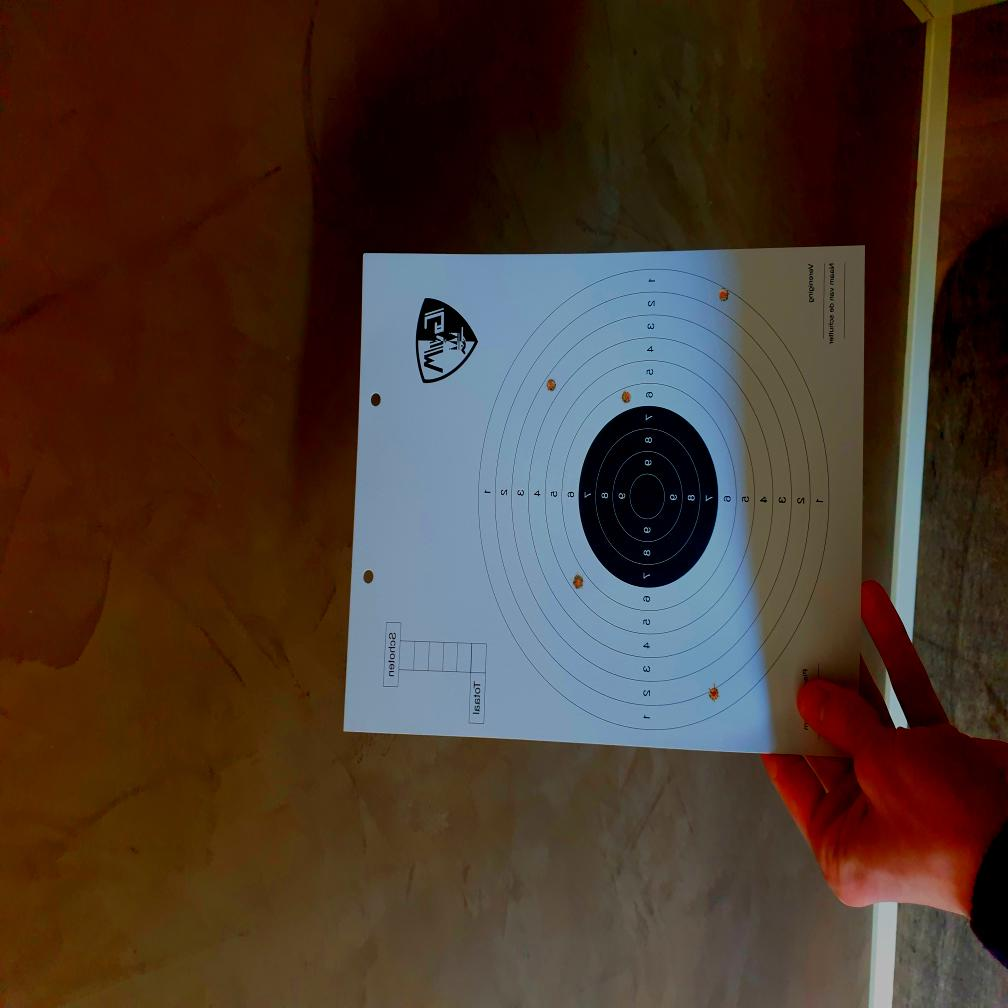1: (717, 286, 729, 303)
2: (708, 683, 720, 702)
3: (545, 379, 556, 392)
5: (570, 572, 584, 589)
6: (620, 389, 631, 404)
Target: (478, 268, 831, 734)
black_contour: (579, 407, 718, 588)
